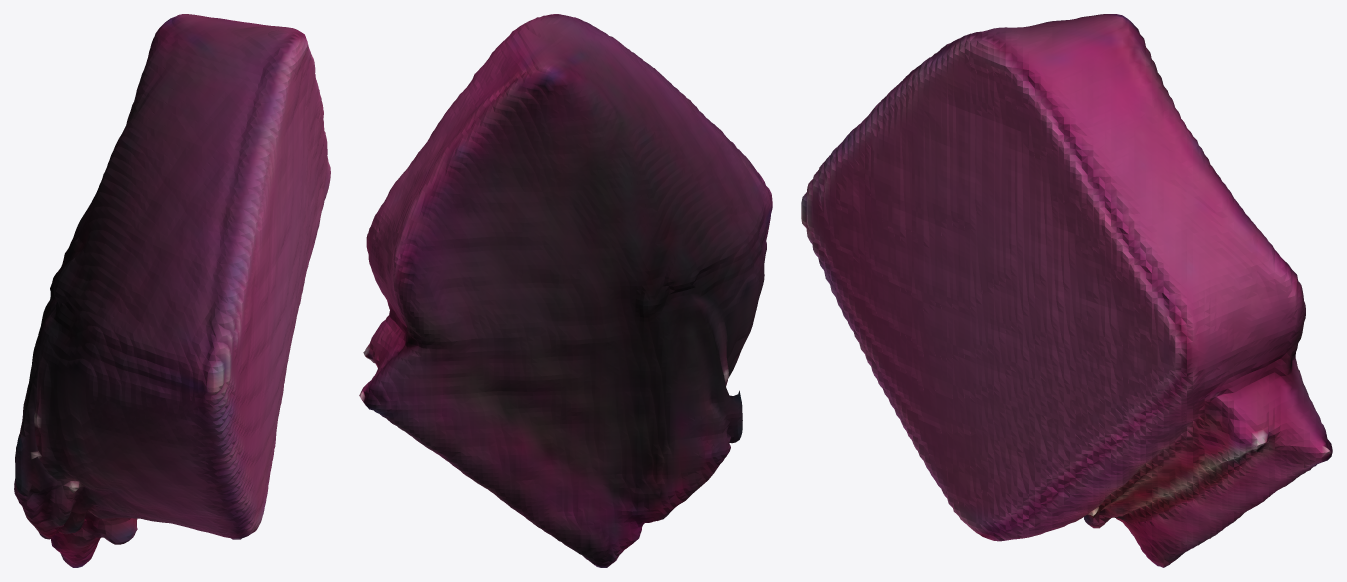
The picture shows the model from 3 angles, left to right: view 1: azimuth 30°, elevation 25°; view 2: azimuth 150°, elevation 25°; view 3: azimuth 270°, elevation 25°; orthographic projection. The views are drawn at different scales.
Bounding box in the file's own units: 0.5483 × 0.7729 × 0.6196.
